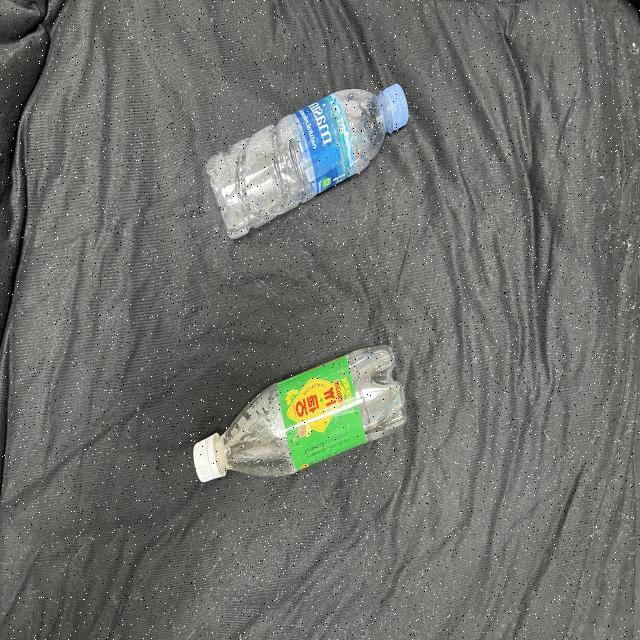plastic: (177, 328, 425, 517), (188, 62, 426, 257)
